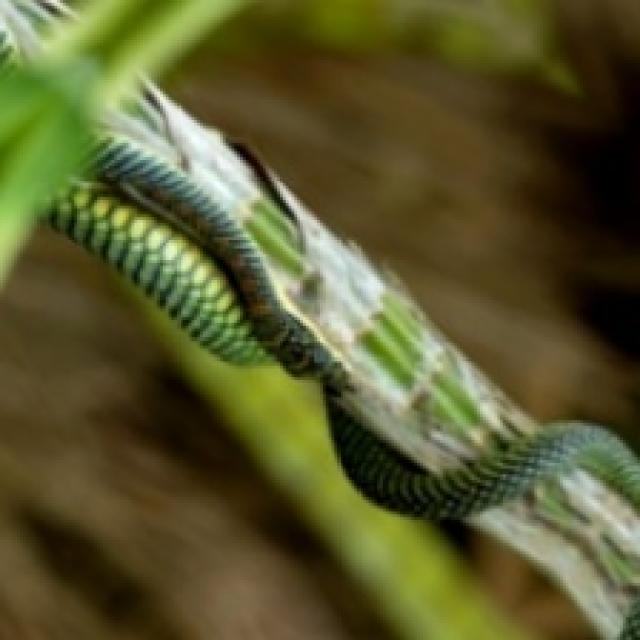paradise tree snake: (51, 141, 325, 373), (326, 386, 640, 521)
